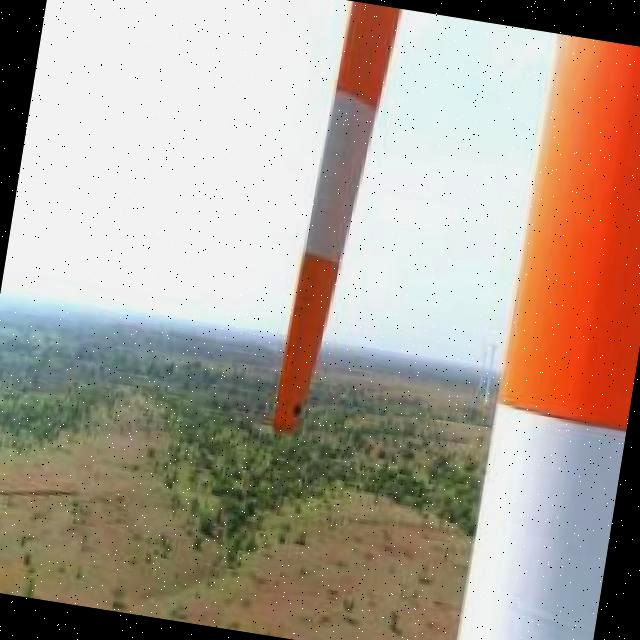Pin Hole: (291, 404, 306, 417)
